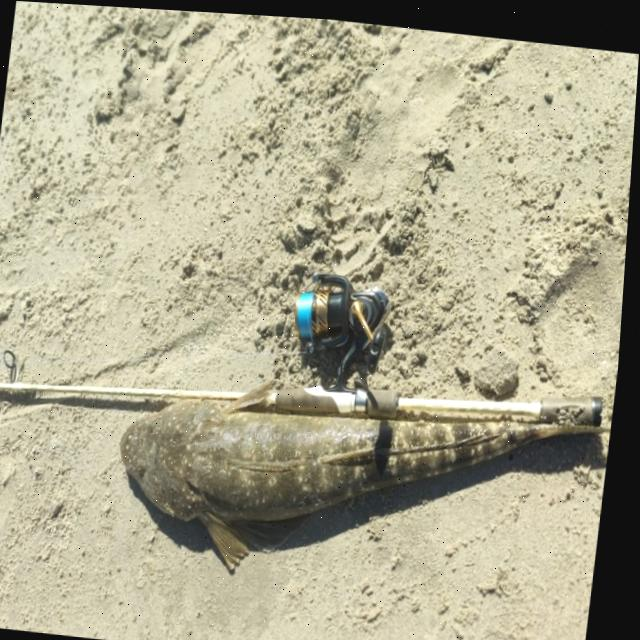Flathead: (101, 356, 618, 611)
